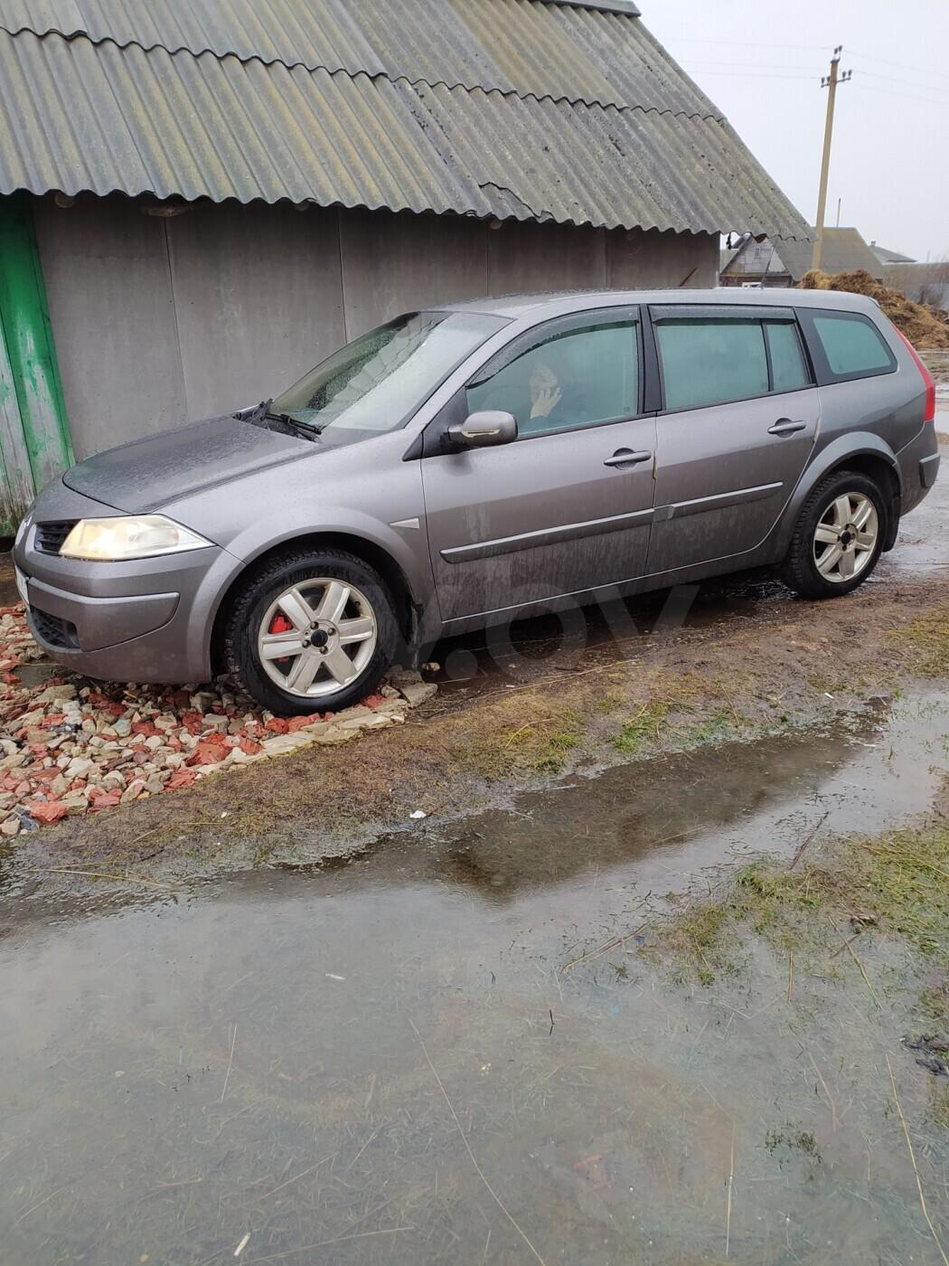Megane_2005-2009: (22, 282, 944, 694)
